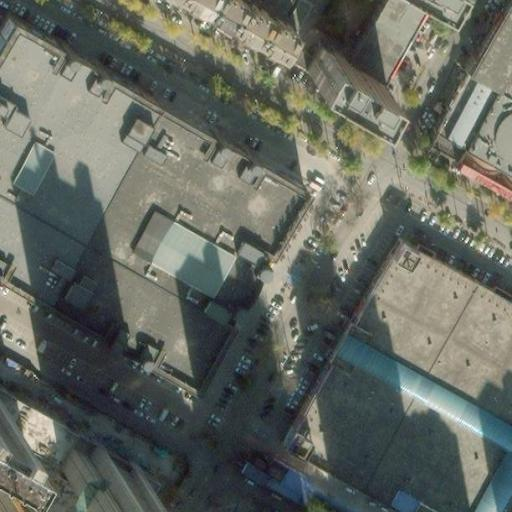building: (278, 241, 512, 512), (454, 66, 512, 198), (252, 452, 370, 512), (344, 0, 427, 82), (55, 444, 150, 512), (421, 74, 494, 159), (302, 44, 380, 105), (243, 0, 309, 29), (0, 468, 31, 512), (137, 476, 152, 490)
